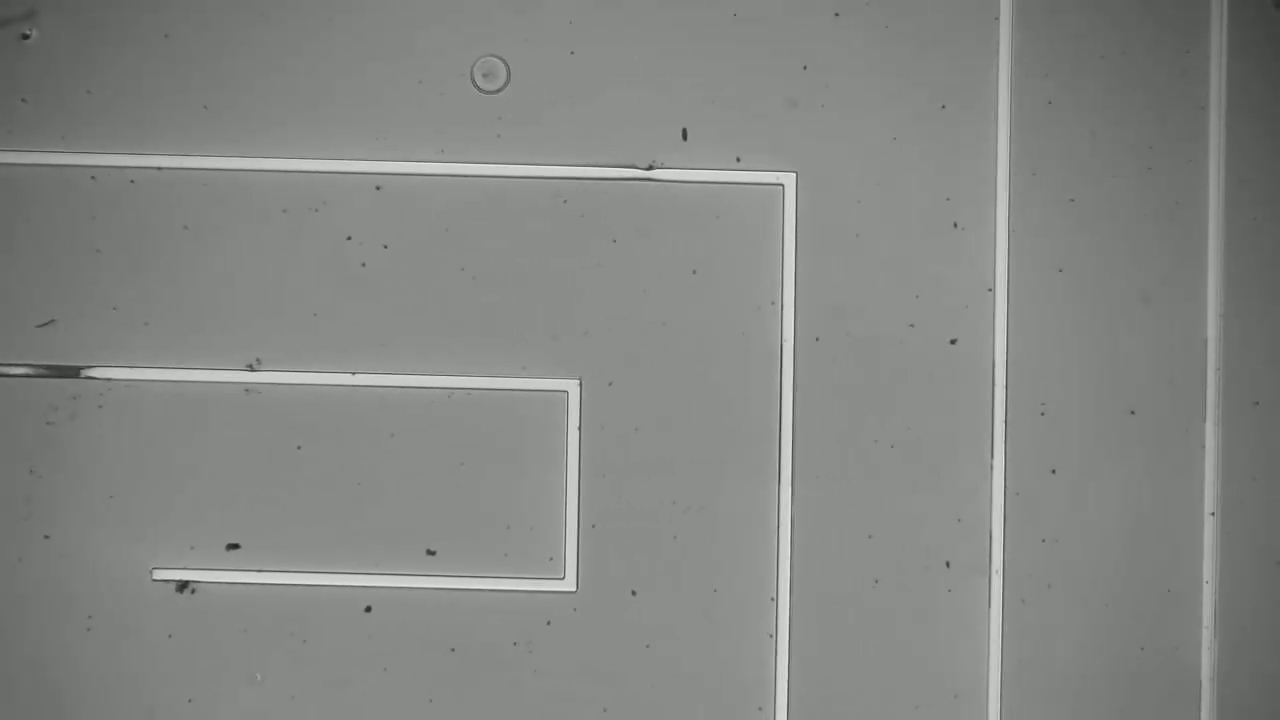gray_line: (1, 343, 110, 407)
